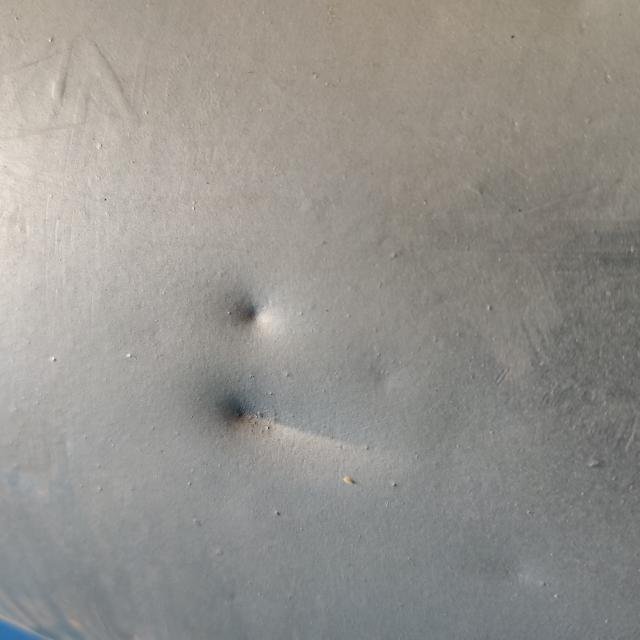dent: (188, 374, 412, 484), (200, 256, 310, 367)
